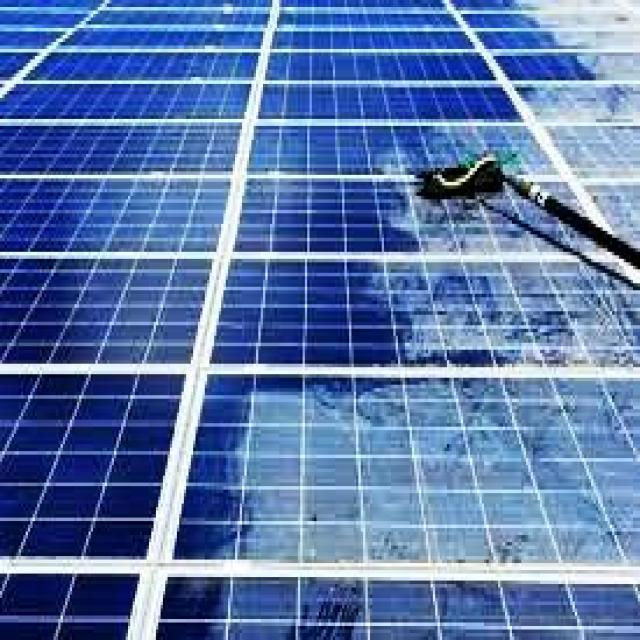faulty: (176, 368, 636, 576), (207, 256, 640, 374), (233, 175, 634, 262)
